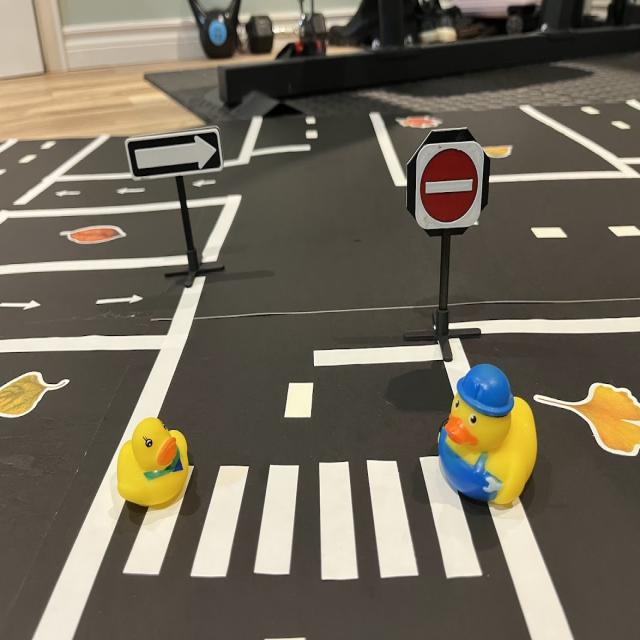duck_regular: (118, 416, 192, 510)
duck_specialty: (438, 363, 541, 507)
road_crosswalk: (116, 450, 494, 585)
road_oneway: (94, 291, 149, 309), (1, 298, 46, 319), (116, 183, 153, 198), (55, 188, 85, 206), (189, 177, 221, 190)
sign_noentry: (417, 140, 485, 227)
sign_oneway_right: (128, 126, 226, 182)
